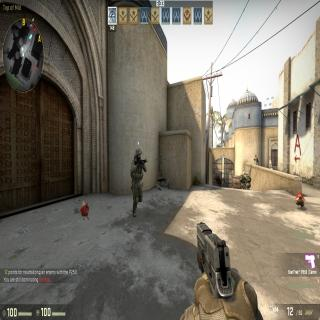CT-Body: (130, 147, 144, 219), (240, 170, 246, 190), (246, 171, 251, 191)
CT-Head: (134, 147, 142, 161), (246, 171, 249, 176), (242, 171, 245, 175)
T-Body: (254, 154, 259, 166), (222, 176, 225, 187)
T-Head: (254, 154, 256, 158), (223, 177, 224, 180)
